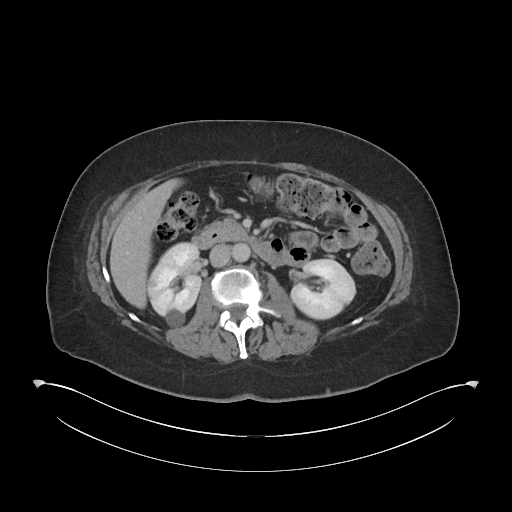Lesion: (165, 306, 187, 333)
